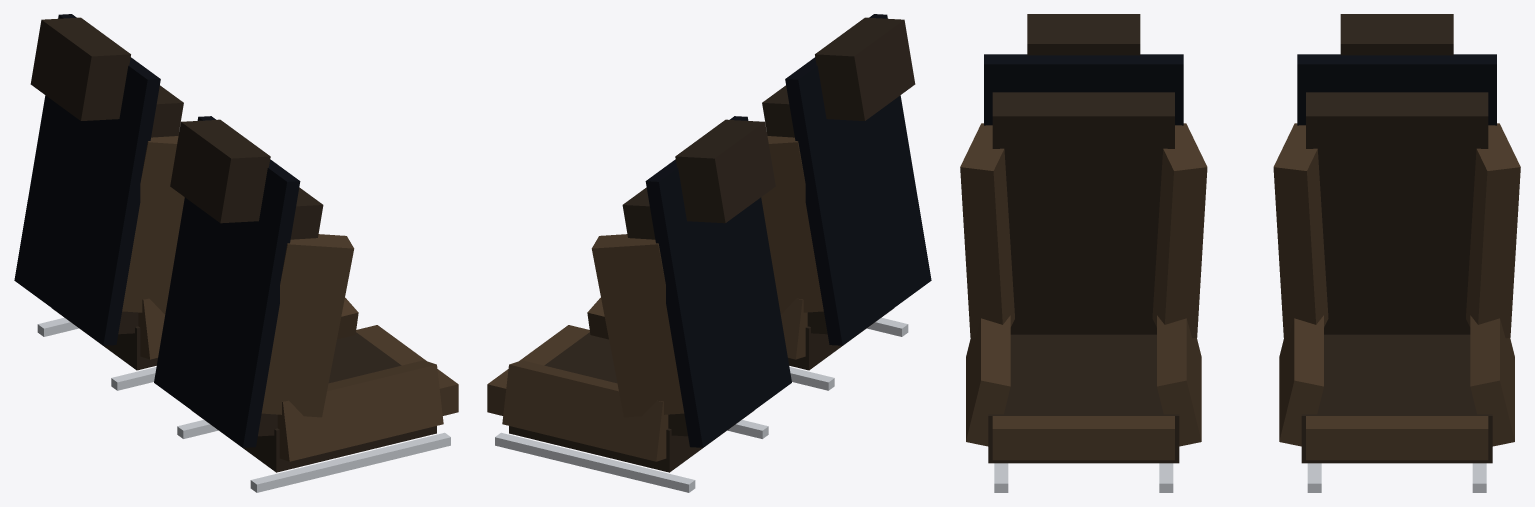
File: seat_sport_bucket.glb
The picture shows the model from 3 angles, left to right: view 1: azimuth 30°, elevation 25°; view 2: azimuth 150°, elevation 25°; view 3: azimuth 270°, elevation 25°; orthographic projection. The views are drawn at different scales.
Parts seen in each view (by area): view 1: PassengerSeat, DriverSeat; view 2: DriverSeat, PassengerSeat; view 3: DriverSeat, PassengerSeat.
Boxes of the visible parts, x1,y1,x2,y2 form: PassengerSeat: [154, 116, 458, 492]; DriverSeat: [14, 14, 184, 390]; DriverSeat: [487, 116, 791, 492]; PassengerSeat: [761, 14, 931, 390]; DriverSeat: [1273, 14, 1520, 492]; PassengerSeat: [960, 14, 1207, 492].
Bounding box in the file's own units: 0.6651 × 0.9313 × 1.29.
